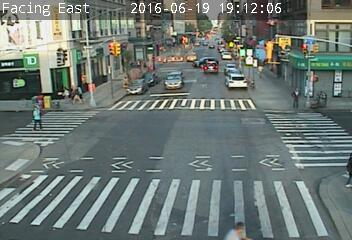neg: (275, 61, 289, 80), (207, 51, 219, 68), (239, 49, 250, 63), (293, 56, 303, 70)
pos: (23, 98, 50, 134), (286, 82, 307, 110), (253, 61, 269, 83)
